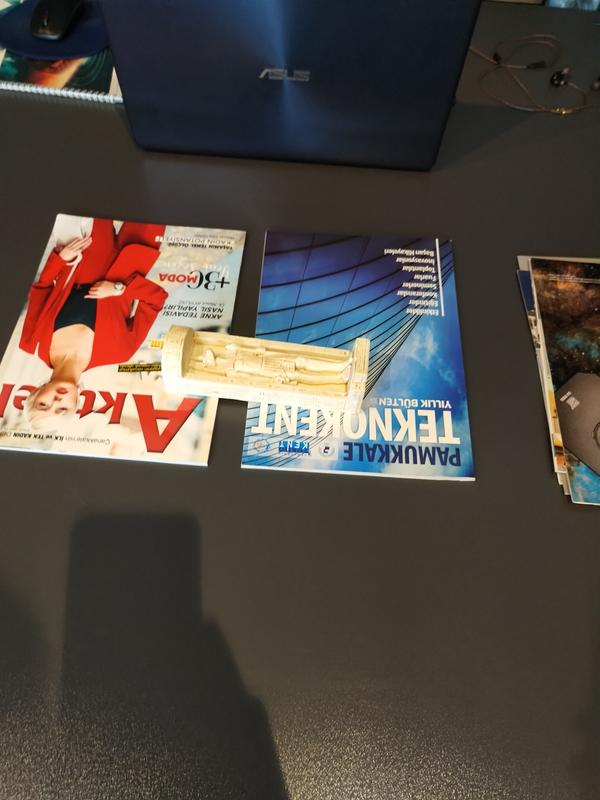heykel: (155, 320, 380, 424)
